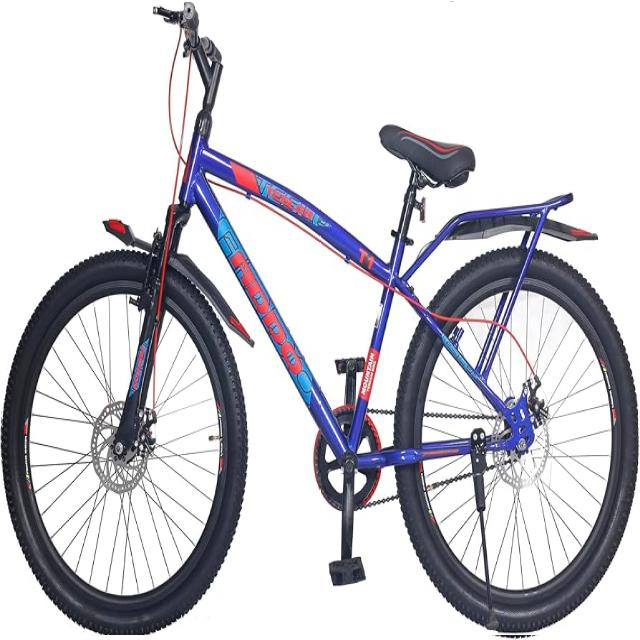bicycle: (2, 2, 638, 635)
